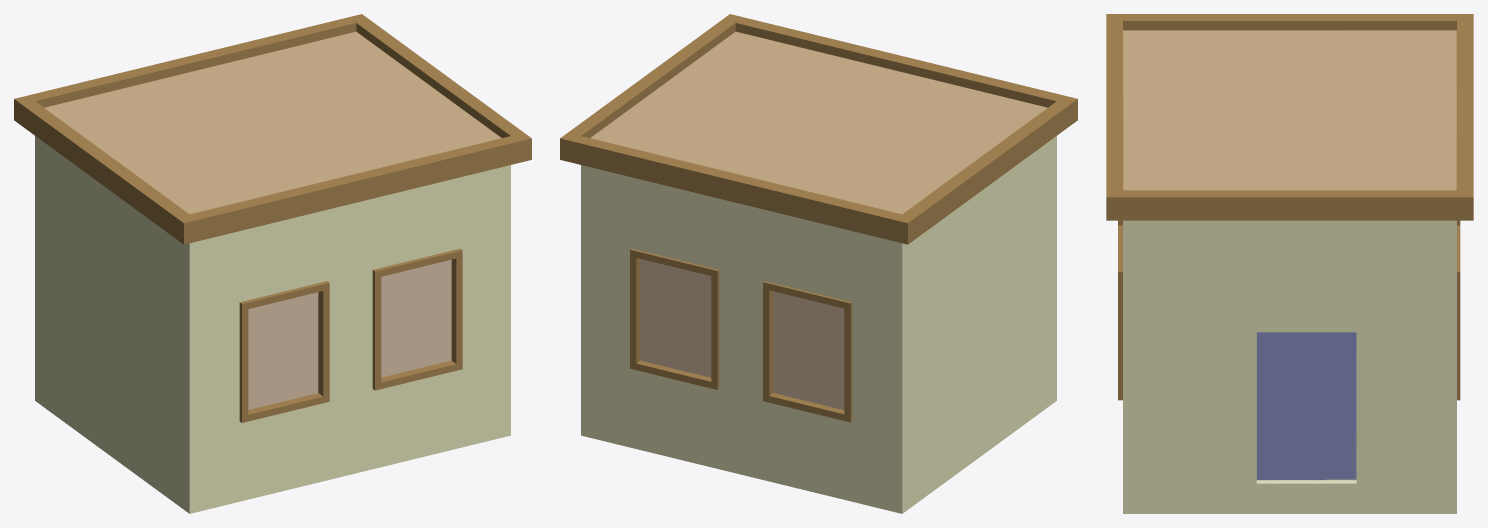
The model's file is Huis_04.fbx.
The picture shows the model from 3 angles, left to right: view 1: azimuth 30°, elevation 25°; view 2: azimuth 150°, elevation 25°; view 3: azimuth 270°, elevation 25°; orthographic projection. The views are drawn at different scales.
Visible parts, largest first — view 1: House_04, Top_04, Raam_056, Raam_055; view 2: House_04, Top_04, Raam_057, Raam_058; view 3: House_04, Top_04, Raam_056, Raam_057.
Part boxes in pixels (box(x1,y1,x2,y2)): House_04: box(35, 136, 510, 513); Top_04: box(14, 14, 531, 244); Raam_056: box(372, 248, 462, 390); Raam_055: box(239, 281, 329, 422); House_04: box(581, 136, 1056, 513); Top_04: box(560, 14, 1077, 244); Raam_057: box(630, 248, 719, 389); Raam_058: box(763, 281, 852, 422); House_04: box(1123, 220, 1456, 513); Top_04: box(1106, 14, 1473, 220); Raam_056: box(1118, 225, 1122, 400); Raam_057: box(1457, 225, 1460, 400).
Size of the model in its own units: 0.013 by 0.0107 by 0.011.
